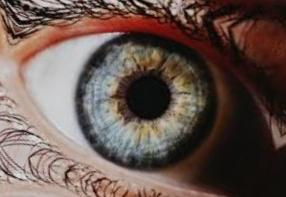eye: (75, 33, 217, 175)
